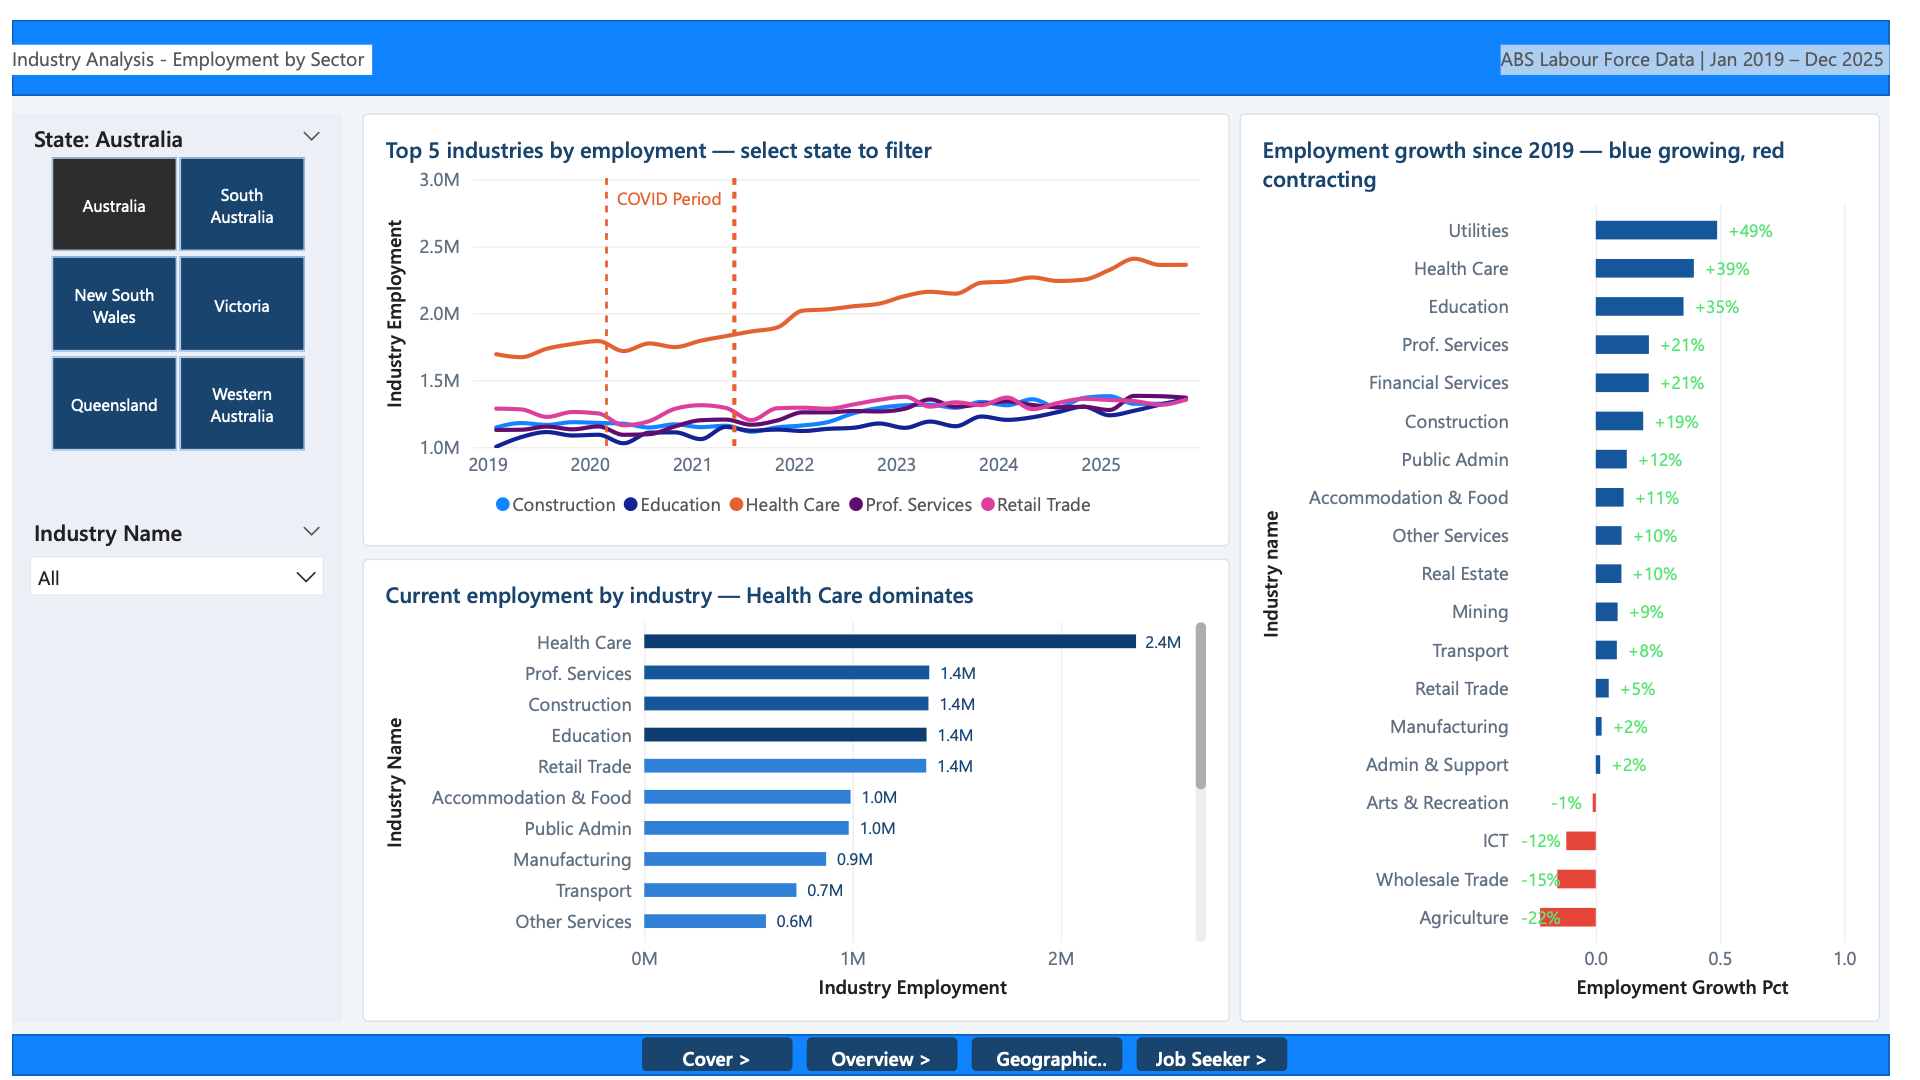

What the dashboard file says about the page in this screenshot:
{"tool":"powerbi","page":{"name":"Industry Analysis","canvas":[1366,768],"ordinal":2},"visuals":[{"type":"shape","box":[0,68,240,661],"z":0},{"type":"shape","box":[0,0,1366,55],"z":1000},{"type":"textbox","box":[0,18,262,22],"z":2000},{"type":"textbox","box":[1083.3,18.2,282.7,21.8],"z":3000},{"type":"shape","box":[0,738,1366,30],"z":5000},{"type":"slicer","title":"State","fields":{"Values":["Industry Time Series.State"]},"box":[8,75,224,240],"z":6000},{"type":"slicer","fields":{"Values":["Industry Time Series.Industry Display Name"]},"box":[8,362,224,142],"z":7000},{"type":"lineChart","title":"Top 5 industries by employment — select state to filter","fields":{"Category":["DimDate.Date"],"Series":["Industry Time Series.Industry Display Name"],"Y":["_Measures.Industry Employment"]},"box":[255,68,631,315],"z":8000},{"type":"clusteredBarChart","title":"Current employment by industry — Health Care dominates","fields":{"Category":["Industry Time Series.Industry Display Name"],"Y":["_Measures.Industry Employment Latest"]},"box":[255,392,631,337],"z":9000},{"type":"clusteredBarChart","title":"Employment growth since 2019 — blue growing, red contracting","fields":{"Category":["Industry Time Series.Industry Display Name"],"Y":["_Measures.Employment Growth Pct"]},"box":[893,68,466,661],"z":10000},{"type":"actionButton","box":[578,740,110,25],"z":13000},{"type":"actionButton","box":[818,740,110,25],"z":13250},{"type":"actionButton","box":[698,740,110,25],"z":13500},{"type":"actionButton","box":[458,740,110,25],"z":14001}]}

Visuals, with their boxes in screenshot pixels (x1, y1, x2, y2), scaled from the page's 1366x768 canvas onto the 1920x1080 screenshot:
shape: box(0, 96, 337, 1025)
shape: box(0, 0, 1919, 77)
textbox: box(0, 25, 368, 56)
textbox: box(1523, 26, 1919, 56)
shape: box(0, 1038, 1919, 1079)
"State" slicer: box(11, 105, 326, 443)
slicer - Industry Time Series.Industry Display Name: box(11, 509, 326, 709)
"Top 5 industries by employment — select state to filter" lineChart: box(358, 96, 1245, 539)
"Current employment by industry — Health Care dominates" clusteredBarChart: box(358, 551, 1245, 1025)
"Employment growth since 2019 — blue growing, red contracting" clusteredBarChart: box(1255, 96, 1910, 1025)
actionButton: box(812, 1041, 967, 1076)
actionButton: box(1150, 1041, 1304, 1076)
actionButton: box(981, 1041, 1136, 1076)
actionButton: box(644, 1041, 798, 1076)
